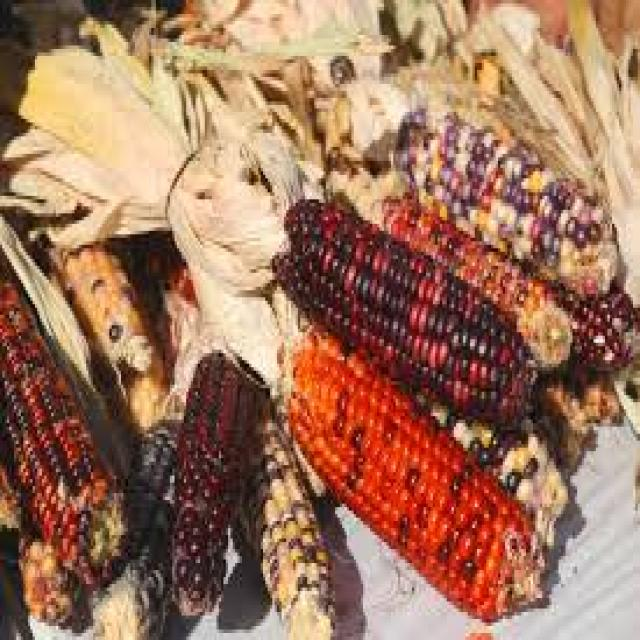discolored corn: (274, 188, 543, 441), (286, 332, 540, 588), (404, 109, 628, 266), (377, 186, 581, 351), (0, 273, 113, 562), (41, 211, 175, 405), (238, 412, 334, 608), (174, 357, 247, 589)
